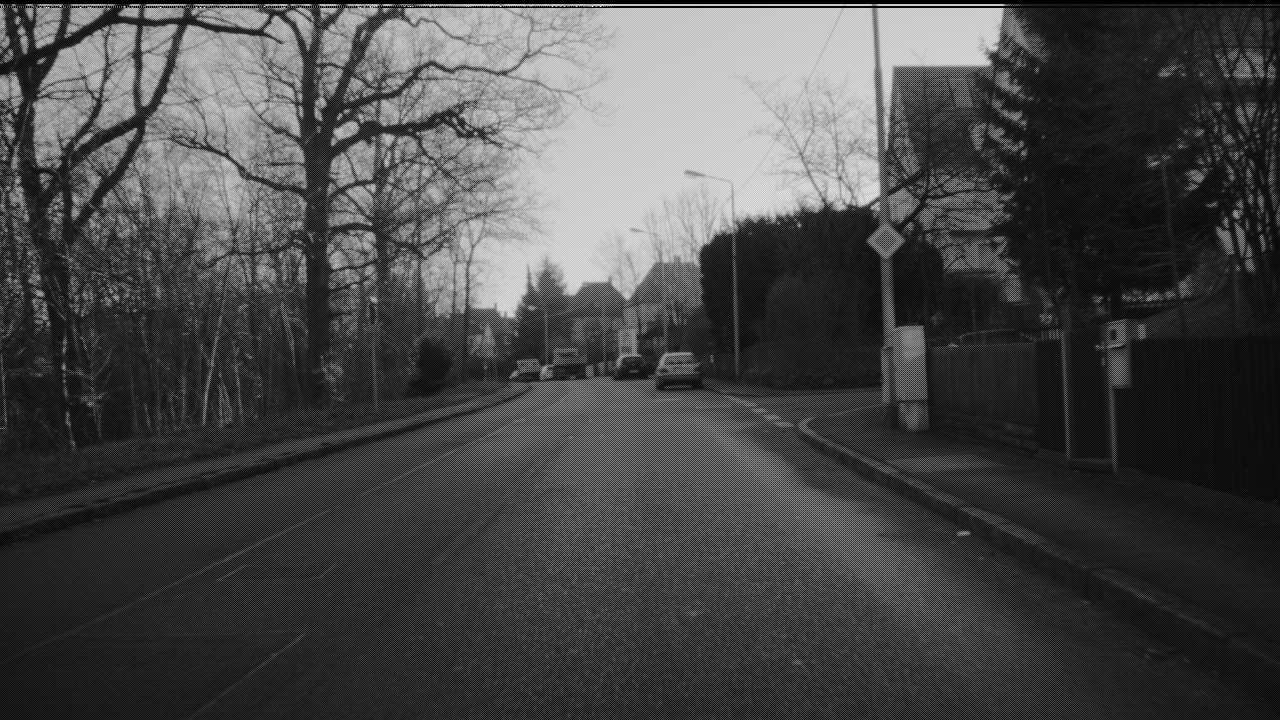pole: (869, 1, 894, 320), (728, 177, 742, 371)
